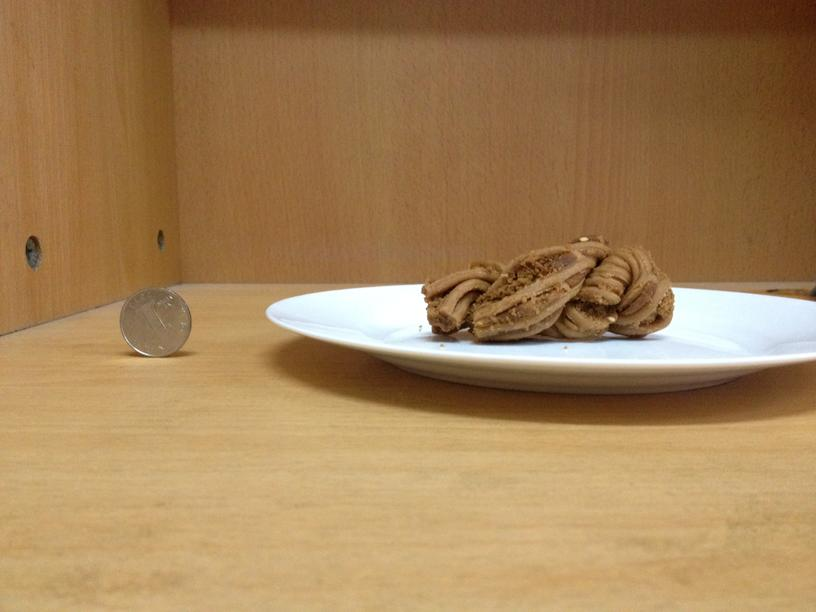coin: (117, 288, 191, 358)
fired_dough_twist: (418, 247, 676, 339)
